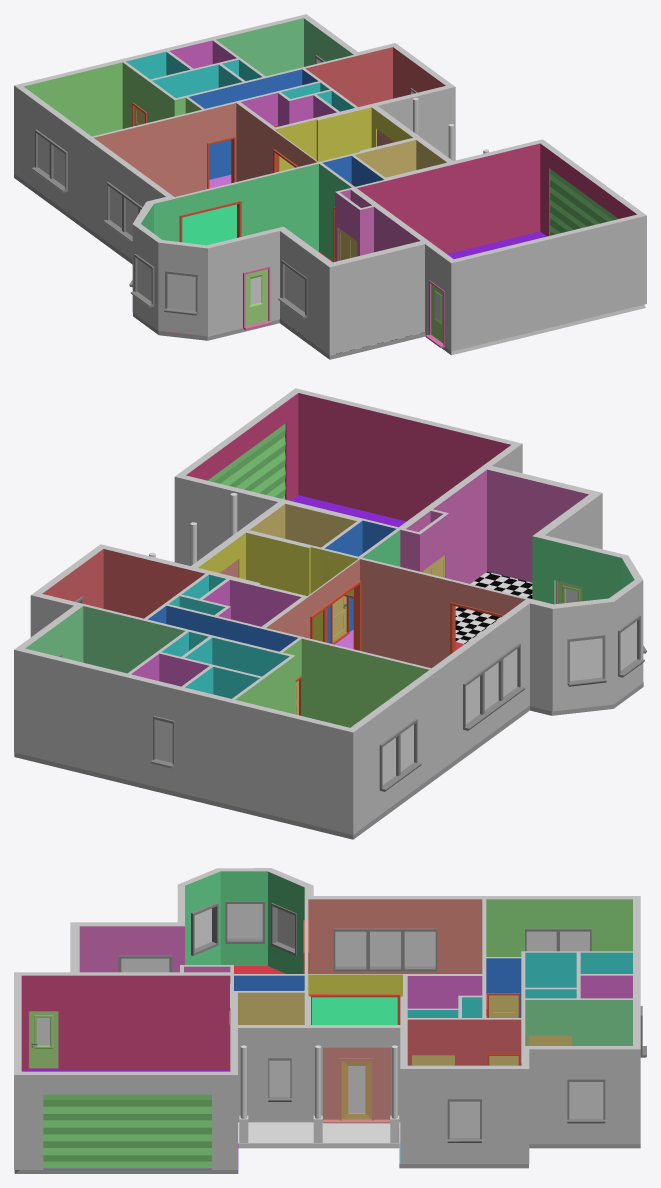
The model's file is HouseColor.fbx.
3 renders of one model, top to bottom at view 1: azimuth 30°, elevation 25°; view 2: azimuth 150°, elevation 25°; view 3: azimuth 270°, elevation 25°, orthographic. The views are drawn at different scales.
Visible parts, largest first — view 1: Walls, Floor, GarageDoor, Window.002, BackDoor2, Window.012, Window.001, Window.007, Window.004, Window.008, BackDoor1, Window.005 (+1 smaller); view 2: Walls, Floor, GarageDoor, Window.003, Window.001, Window.009, Window.004, Window.008, Window.005, Window.006, Window.007, DoorFrame.011; view 3: Walls, GarageDoor, Floor, Balcony, FrontDoorFrame, FrontDoor, Window.011, Window.001, BackDoor1, Window.006, Window.004, Window (+12 smaller).
Boxes of the visible parts, bbox=[...] form: Walls: bbox=[14, 14, 646, 355]; Floor: bbox=[14, 174, 645, 359]; GarageDoor: bbox=[549, 169, 618, 235]; Window.002: bbox=[164, 271, 197, 315]; BackDoor2: bbox=[245, 269, 267, 325]; Window.012: bbox=[278, 260, 307, 318]; Window.001: bbox=[130, 254, 154, 307]; Window.007: bbox=[47, 141, 67, 192]; Window.004: bbox=[103, 182, 124, 233]; Window.008: bbox=[31, 129, 51, 180]; BackDoor1: bbox=[431, 284, 443, 343]; Window.005: bbox=[119, 194, 140, 242]; Walls: bbox=[14, 388, 643, 834]; Floor: bbox=[14, 495, 643, 839]; GarageDoor: bbox=[208, 423, 285, 499]; Window.003: bbox=[567, 634, 606, 686]; Window.001: bbox=[618, 615, 644, 677]; Window.009: bbox=[150, 716, 174, 768]; Window.004: bbox=[463, 670, 487, 730]; Window.008: bbox=[379, 732, 403, 791]; Window.005: bbox=[482, 657, 506, 716]; Window.006: bbox=[500, 643, 525, 702]; Window.007: bbox=[398, 719, 421, 778]; DoorFrame.011: bbox=[310, 580, 361, 650]; Walls: bbox=[14, 868, 640, 1169]; GarageDoor: bbox=[43, 1094, 211, 1168]; Floor: bbox=[14, 966, 640, 1173]; Balcony: bbox=[238, 1122, 400, 1148]; FrontDoorFrame: bbox=[323, 1047, 390, 1123]; FrontDoor: bbox=[341, 1061, 371, 1119]; Window.011: bbox=[567, 1078, 605, 1123]; Window.001: bbox=[225, 900, 264, 943]; BackDoor1: bbox=[29, 1011, 58, 1066]; Window.006: bbox=[333, 928, 368, 971]; Window.004: bbox=[402, 928, 437, 971]; Window: bbox=[447, 1098, 481, 1142].
Bounding box in the file's own units: 1623 × 359 × 2072.
